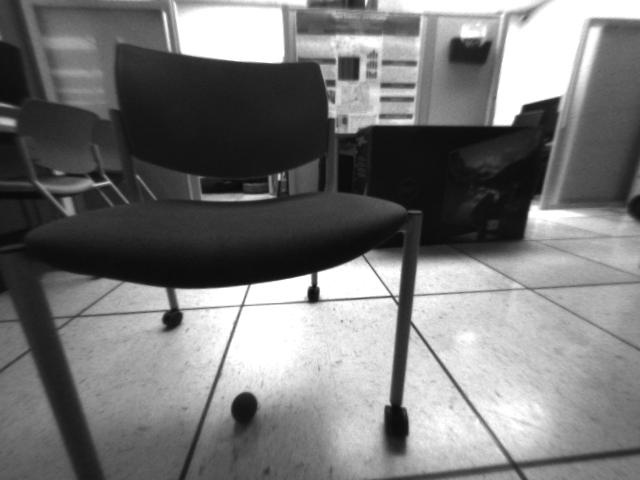dogtoy: (223, 385, 264, 429)
